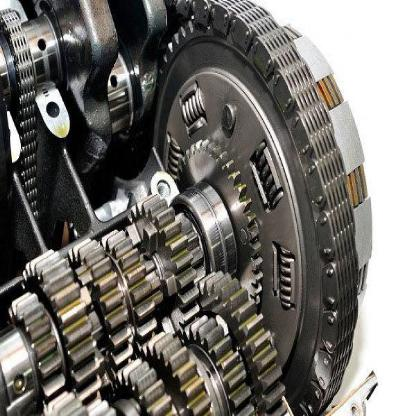FOD: (196, 267, 287, 415), (20, 246, 104, 405), (7, 286, 66, 415), (101, 226, 159, 346)
